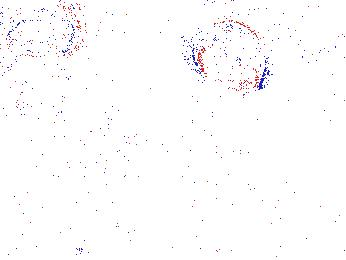moon jellyfish: (265, 1, 346, 69), (192, 20, 267, 90), (1, 1, 88, 59)
